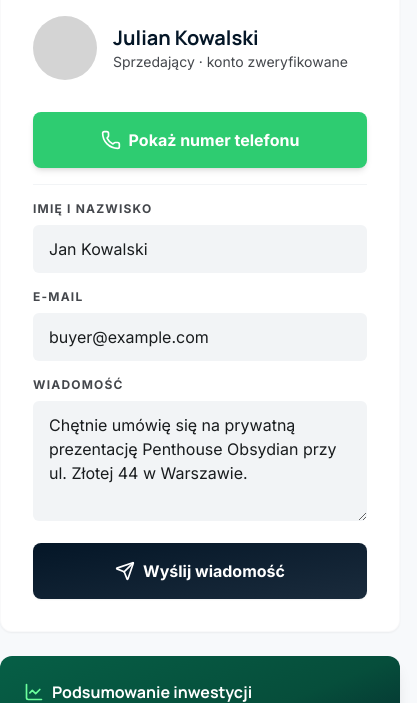
ContactSidebar › reveals phone number after clicking show phone
The width and height of the screenshot is (417, 703).
Click the button "Pokaż numer telefonu". click: (200, 140)
box: [33,112,367,168]
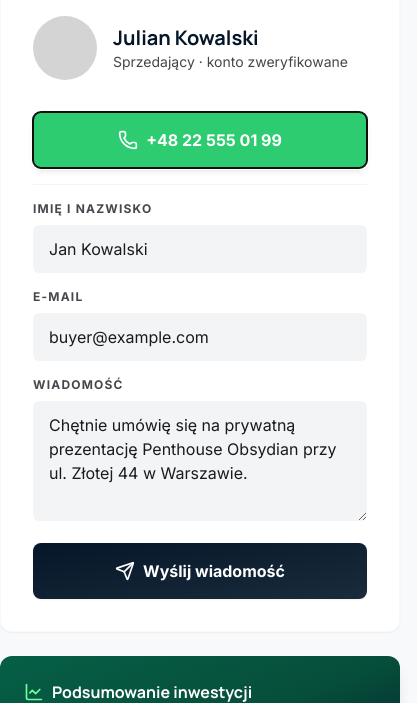
Now the button "+48 22 555 01 99" is shown, box [33,112,367,168]
